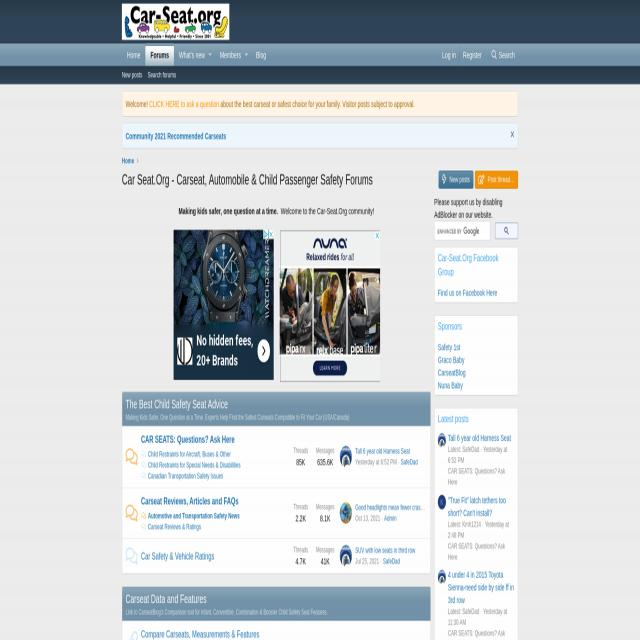button: (279, 230, 380, 382), (174, 230, 274, 378), (122, 3, 229, 40), (174, 44, 214, 66), (475, 170, 518, 188), (215, 44, 250, 66), (488, 44, 518, 66), (438, 170, 474, 188), (146, 44, 174, 66), (459, 44, 485, 66), (313, 360, 347, 376), (122, 44, 146, 66), (251, 44, 271, 66), (439, 44, 459, 66), (494, 222, 518, 238), (258, 340, 270, 362), (340, 446, 352, 468), (340, 502, 352, 524), (340, 546, 352, 567), (438, 494, 446, 510), (438, 433, 446, 447), (438, 570, 446, 584), (510, 127, 516, 140), (375, 232, 381, 240), (269, 230, 273, 239), (263, 230, 267, 238)
field: (435, 222, 490, 241)
